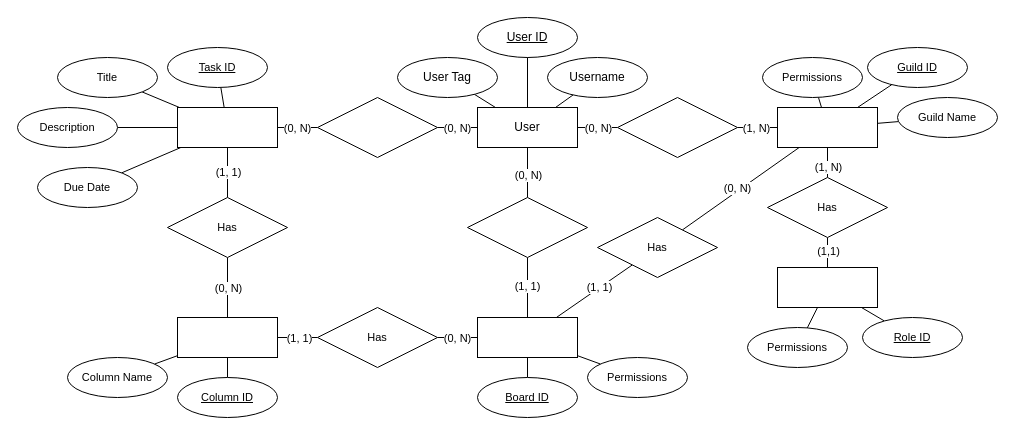
The diagram is 1015 pixels wide and 435 high, and some of its shapes have lost their labels. Each missing label, with the centre of its shape:
"Board" goes at point (527, 337).
"Column" goes at point (227, 337).
"Creates" goes at point (527, 227).
"Guild" goes at point (827, 127).
"Is Assigned to" goes at point (377, 127).
"Is in" goes at point (677, 127).
"Role" goes at point (827, 287).
"Task" goes at point (227, 127).
